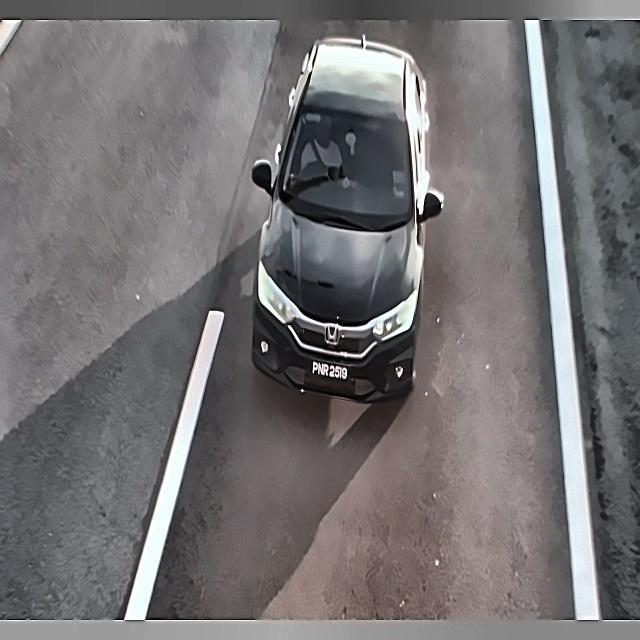car: (306, 354, 354, 388)
